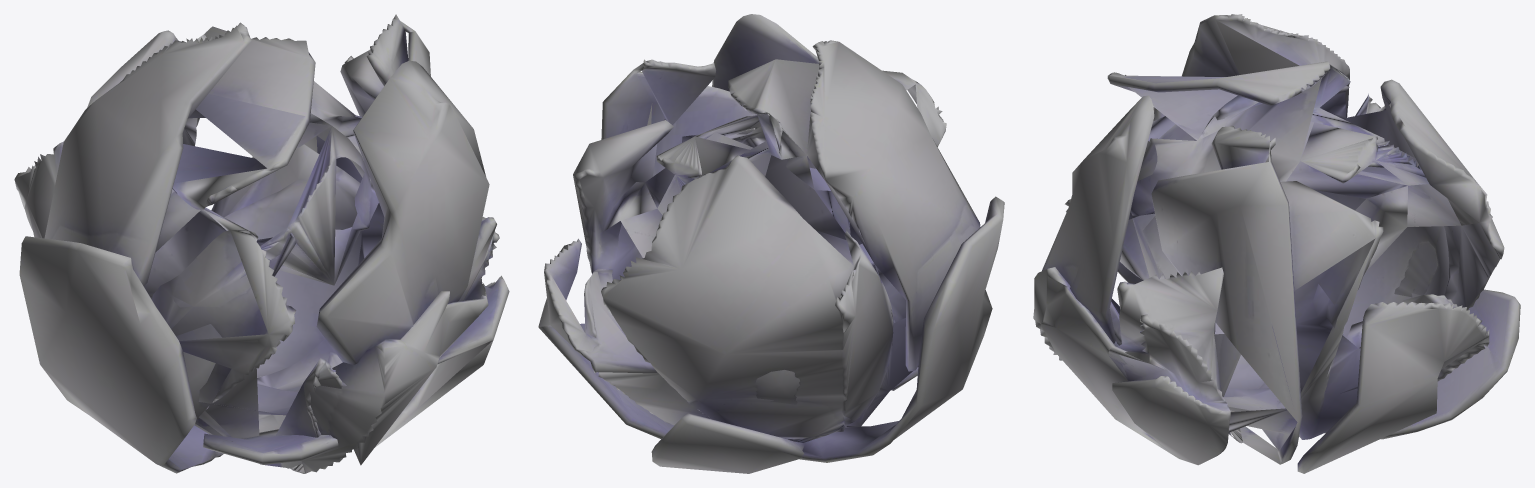
Rendered from selected.glb.
3 renders of one model, left to right at view 1: azimuth 30°, elevation 25°; view 2: azimuth 150°, elevation 25°; view 3: azimuth 270°, elevation 25°, orthographic. The views are drawn at different scales.
Parts seen in each view (by area): view 1: tripo_node_2c72272f-0378-4197-92d6-97e1c7bd5488; view 2: tripo_node_2c72272f-0378-4197-92d6-97e1c7bd5488; view 3: tripo_node_2c72272f-0378-4197-92d6-97e1c7bd5488.
Boxes of the visible parts, left/top/right/bottom form: tripo_node_2c72272f-0378-4197-92d6-97e1c7bd5488: left=14, top=14, right=509, bottom=473; tripo_node_2c72272f-0378-4197-92d6-97e1c7bd5488: left=538, top=14, right=1004, bottom=473; tripo_node_2c72272f-0378-4197-92d6-97e1c7bd5488: left=1033, top=14, right=1520, bottom=473.
Bounding box in the file's own units: 0.9434 × 0.9043 × 0.998.
Materials: 1 (1 with a texture image).
